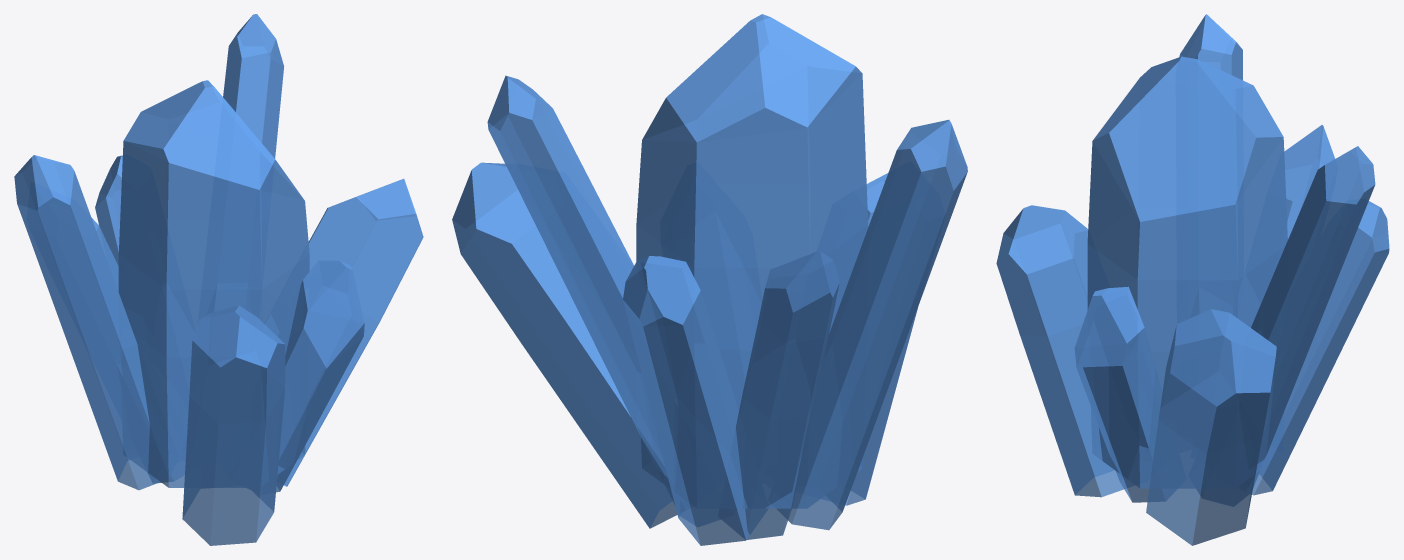
File: Crystals_l_01 2.fbx
The picture shows the model from 3 angles, left to right: view 1: azimuth 30°, elevation 25°; view 2: azimuth 150°, elevation 25°; view 3: azimuth 270°, elevation 25°; orthographic projection. The views are drawn at different scales.
Visible parts, largest first — view 1: Crystals_l_01; view 2: Crystals_l_01; view 3: Crystals_l_01.
Boxes of the visible parts, x1,y1,x2,y2 form: Crystals_l_01: (14, 14, 423, 545); Crystals_l_01: (452, 14, 967, 545); Crystals_l_01: (996, 14, 1389, 545).
Size of the model in its own units: 447 by 447 by 357.
